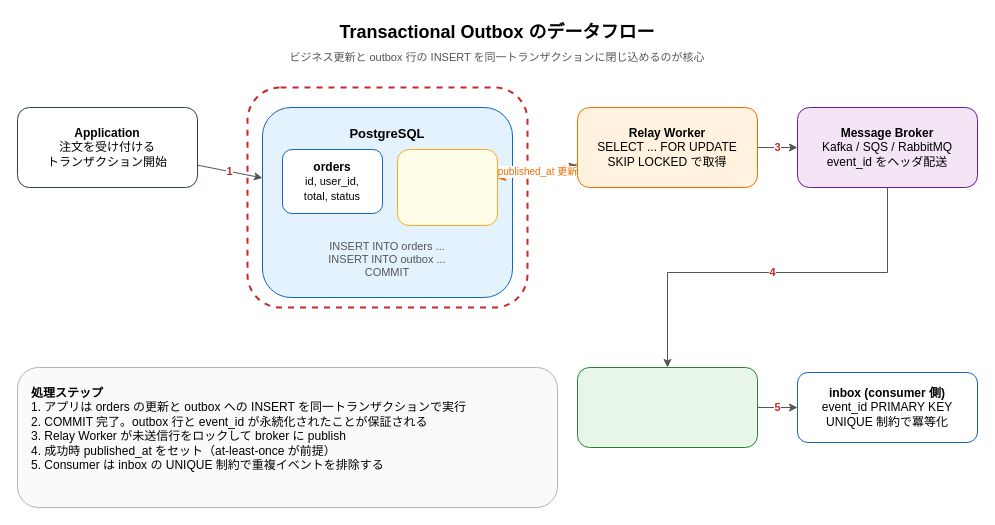
The diagram is 995 pixels wide and 525 high, and some of its shapes have lost their labels. The shapes that lost their labels are listed below. From the top down, each one's box as (x1, y1, x2, y2) in pixels, then its label:
(246, 86, 528, 308): 同一 DB トランザクション
(396, 148, 498, 226): outbox event_id, event_type, payload
(576, 366, 758, 448): Consumer 受信した event_id を inbox テーブルで重複検査
